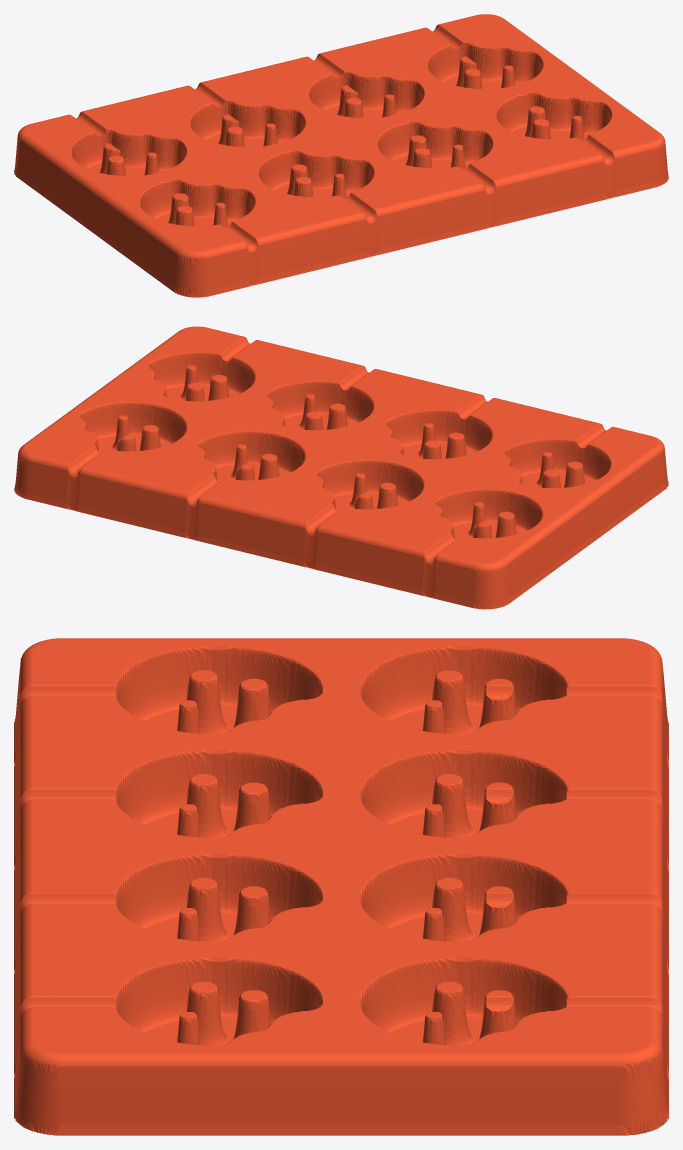
The model's file is mold.glb.
The picture shows the model from 3 angles, top to bottom: view 1: azimuth 30°, elevation 25°; view 2: azimuth 150°, elevation 25°; view 3: azimuth 270°, elevation 25°; orthographic projection. The views are drawn at different scales.
Visible parts, largest first — view 1: geometry_0; view 2: geometry_0; view 3: geometry_0.
Boxes of the visible parts, box(x1,y1,x2,y2) form: geometry_0: box(14, 14, 668, 297); geometry_0: box(14, 326, 668, 609); geometry_0: box(14, 638, 668, 1135).
Size of the model in its own units: 0.1907 by 0.0155 by 0.1229.
